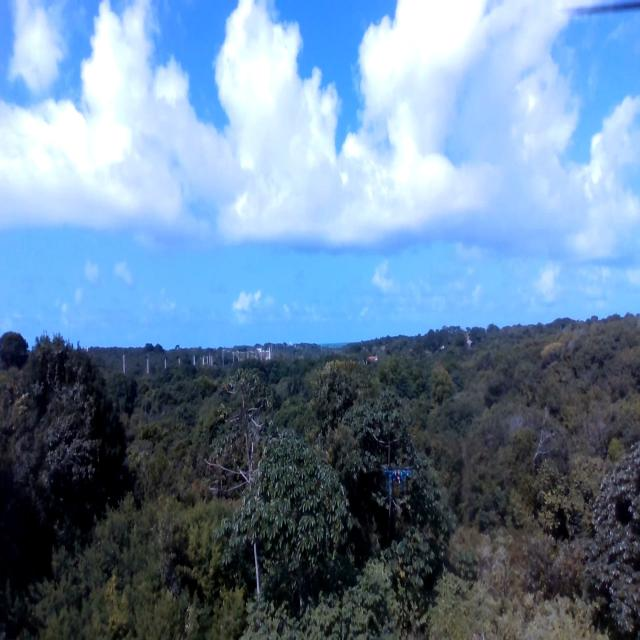-uav-: (380, 449, 417, 517)
